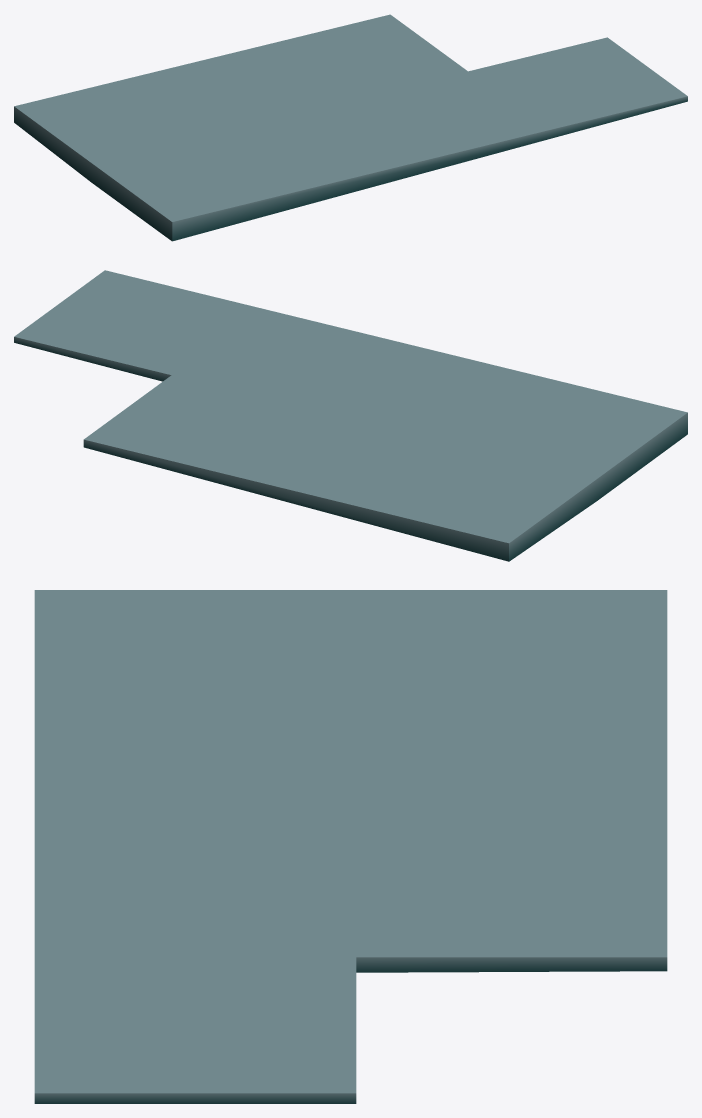
3 renders of one model, top to bottom at view 1: azimuth 30°, elevation 25°; view 2: azimuth 150°, elevation 25°; view 3: azimuth 270°, elevation 25°, orthographic. The views are drawn at different scales.
Visible parts, largest first — view 1: Cube.071; view 2: Cube.071; view 3: Cube.071.
Part boxes in pixels (box(x1,y1,x2,y2)): Cube.071: box(14, 14, 687, 241); Cube.071: box(14, 270, 687, 561); Cube.071: box(34, 590, 667, 1103).
Bounding box in the file's own units: 102 × 3.7 × 54.19.
